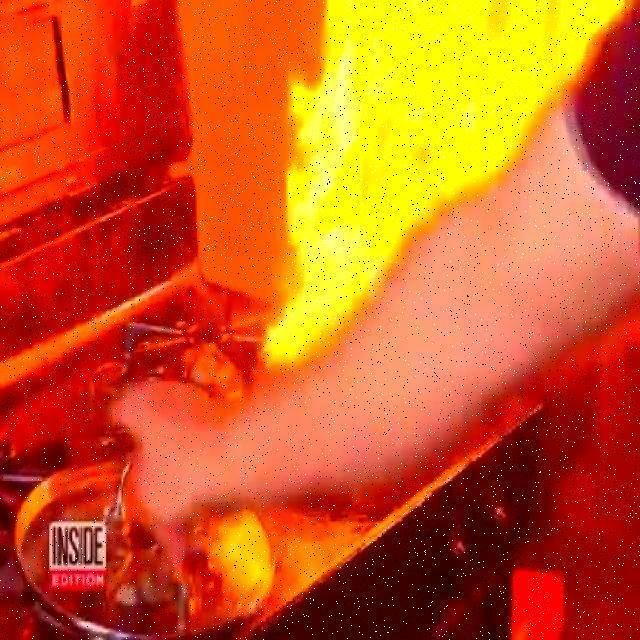fire: (267, 0, 578, 381)
